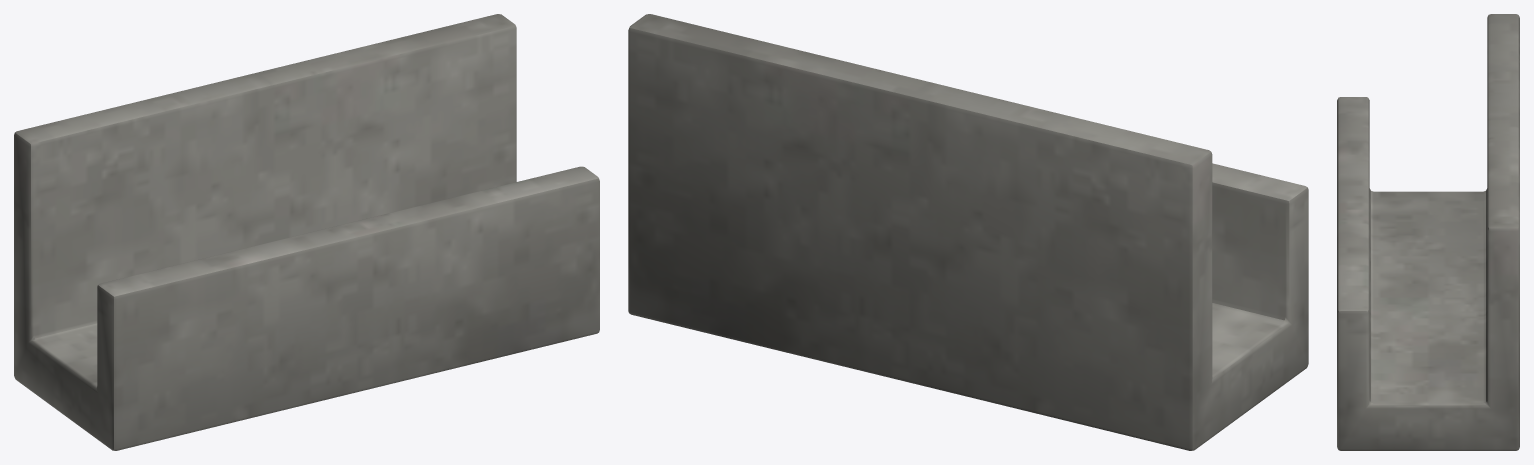
The model's file is ALV-BCO-004_lod1.glb.
The picture shows the model from 3 angles, left to right: view 1: azimuth 30°, elevation 25°; view 2: azimuth 150°, elevation 25°; view 3: azimuth 270°, elevation 25°; orthographic projection. The views are drawn at different scales.
Parts seen in each view (by area): view 1: ALV-BCO-004_peca; view 2: ALV-BCO-004_peca; view 3: ALV-BCO-004_peca.
Part boxes in pixels (x1,y1,x2,y2): ALV-BCO-004_peca: [14, 14, 599, 450]; ALV-BCO-004_peca: [628, 14, 1308, 450]; ALV-BCO-004_peca: [1337, 14, 1519, 450].
Bounding box in the file's own units: 0.39 × 0.19 × 0.14.
Materials: 1 (1 with a texture image).
